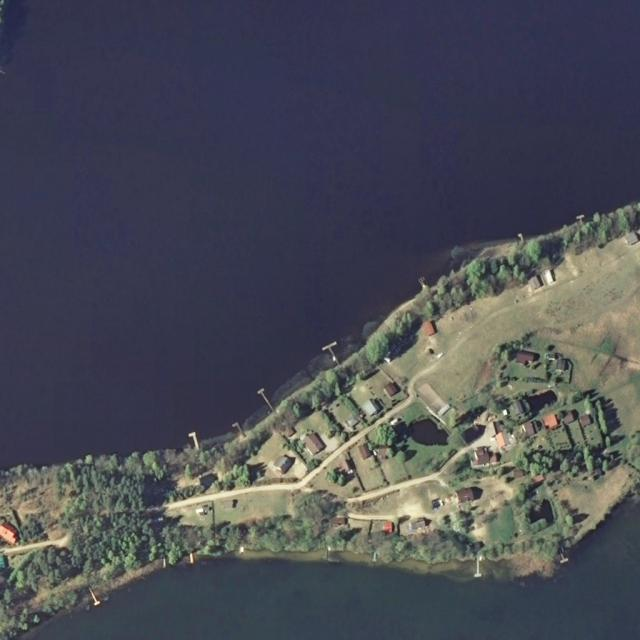building: (439, 406, 543, 566), (312, 412, 434, 509), (509, 389, 612, 476), (290, 380, 392, 464), (327, 498, 405, 546), (344, 511, 411, 566)
metalled_road: (269, 336, 455, 522), (346, 447, 475, 519), (179, 480, 296, 507)
